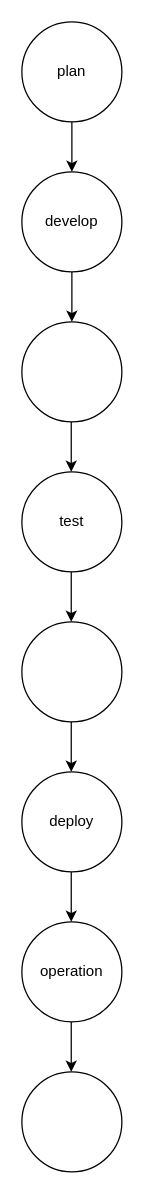
Some shapes in this 144 by 1194 pixel diagram are drawn without their labels. The centre of each missing label's shape, as x and y in pixels:
"bulid" belongs at pixel 71 371.
"mointoring" belongs at pixel 71 1121.
"release" belongs at pixel 71 671.
